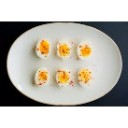begg: (78, 68, 94, 88), (34, 67, 48, 86), (58, 40, 71, 60), (78, 40, 92, 58), (57, 69, 71, 87), (38, 41, 51, 58)
